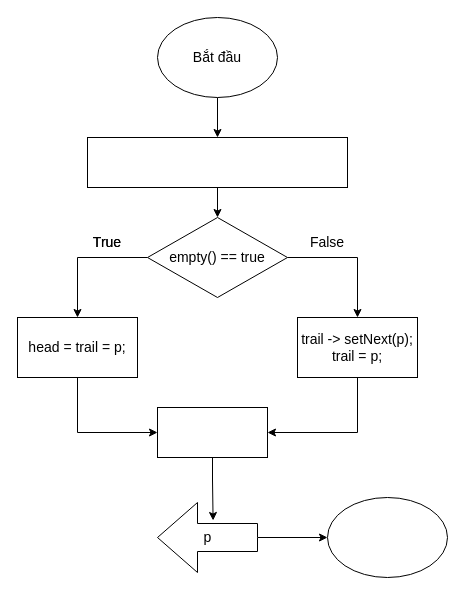
Image size: 465x595. Some labels were removed from this diagram. Each missing label, with the centre of its shape:
"Kết thúc" goes at point (387, 537).
"Node <Keys, T> *p; p = new Node <Keys, T> (k, v);" goes at point (217, 162).
"sz ++" goes at point (212, 432).
